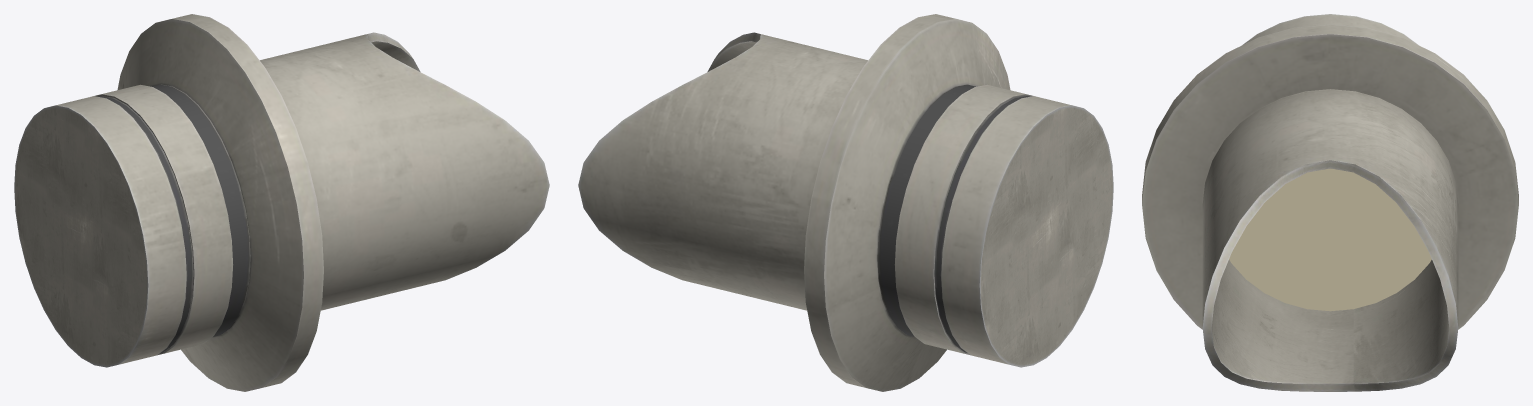
The model's file is guard_6_c_d.glb.
3 views of the same model, side by side, from view 1: azimuth 30°, elevation 25°; view 2: azimuth 150°, elevation 25°; view 3: azimuth 270°, elevation 25° (orthographic).
Parts seen in each view (by area): view 1: guard_6_c_d_lod0; view 2: guard_6_c_d_lod0; view 3: guard_6_c_d_lod0.
Boxes of the visible parts, x1,y1,x2,y2 form: guard_6_c_d_lod0: [14, 14, 549, 391]; guard_6_c_d_lod0: [578, 14, 1113, 391]; guard_6_c_d_lod0: [1142, 14, 1518, 391].
Size of what is drawn, in the model's own units: 0.0477 by 0.0391 by 0.0391.
1 material, 1 textured.
